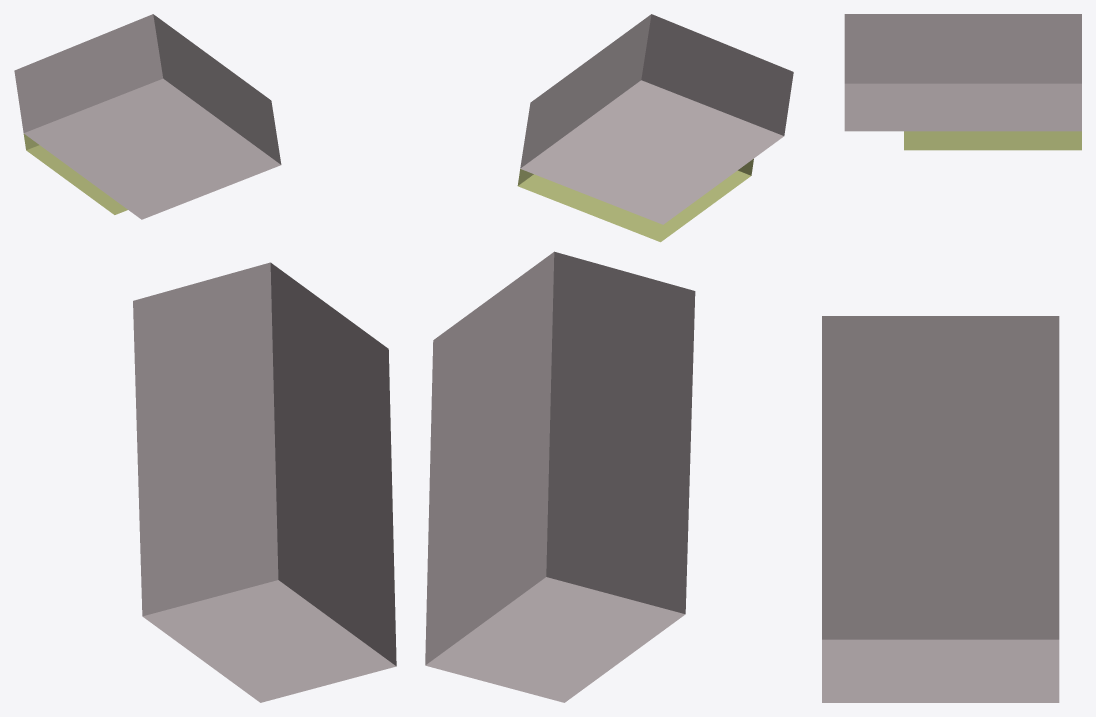
3 renders of one model, left to right at view 1: azimuth 30°, elevation 25°; view 2: azimuth 150°, elevation 25°; view 3: azimuth 270°, elevation 25°, orthographic. The views are drawn at different scales.
Parts seen in each view (by area): view 1: 0_1_2_3_3_3; view 2: 0_1_2_3_3_3; view 3: 0_1_2_3_3_3.
Part boxes in pixels (<box>): 0_1_2_3_3_3: <box>14,14,396,702</box>; 0_1_2_3_3_3: <box>425,14,793,702</box>; 0_1_2_3_3_3: <box>822,14,1081,702</box>.
Size of the model in its own units: 14.82 by 32.98 by 13.14.
